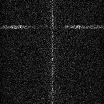wifi: (1, 25, 104, 28)
